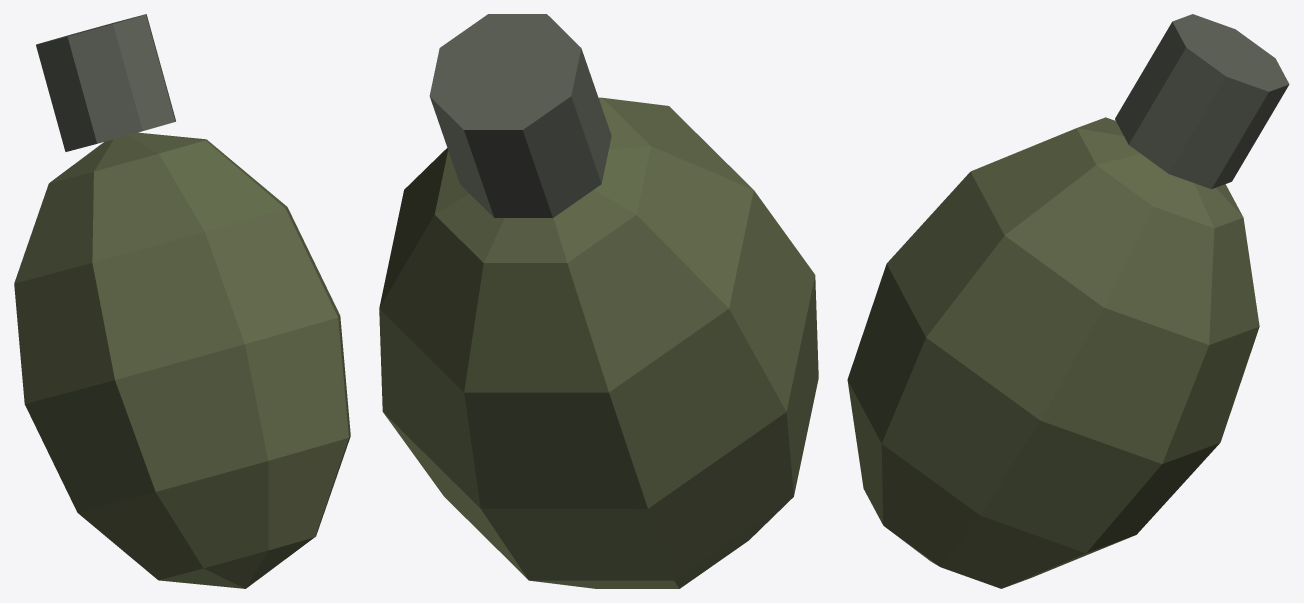
Rendered from m26_grenade_thrown.glb.
The picture shows the model from 3 angles, left to right: view 1: azimuth 30°, elevation 25°; view 2: azimuth 150°, elevation 25°; view 3: azimuth 270°, elevation 25°; orthographic projection. The views are drawn at different scales.
Parts seen in each view (by area): view 1: M26_Grenade; view 2: M26_Grenade; view 3: M26_Grenade.
Part boxes in pixels (bbox=[...]): M26_Grenade: bbox=[14, 14, 350, 588]; M26_Grenade: bbox=[379, 14, 818, 588]; M26_Grenade: bbox=[847, 14, 1289, 588].
Size of the model in its own units: 0.056 by 0.0883 by 0.0652.
